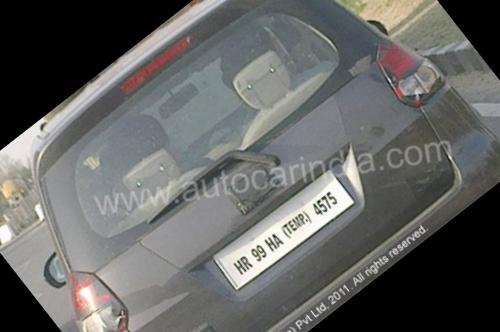plate: (196, 145, 377, 309)
